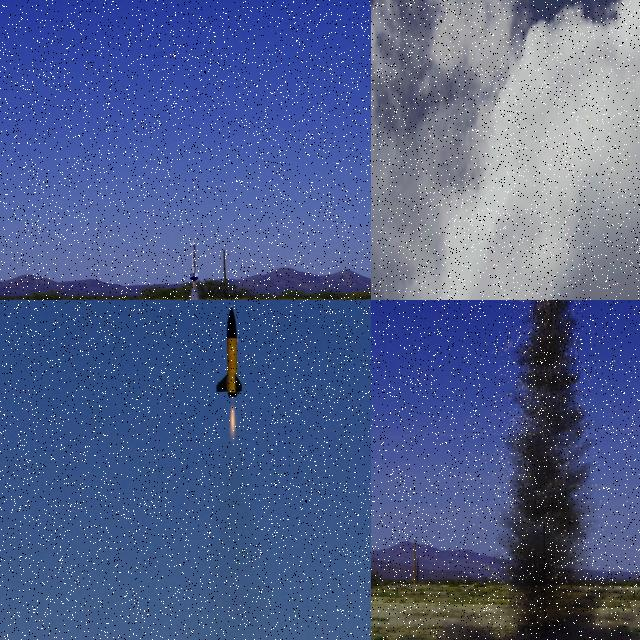Rocket: (216, 305, 243, 398), (189, 240, 199, 283), (468, 76, 472, 85)
